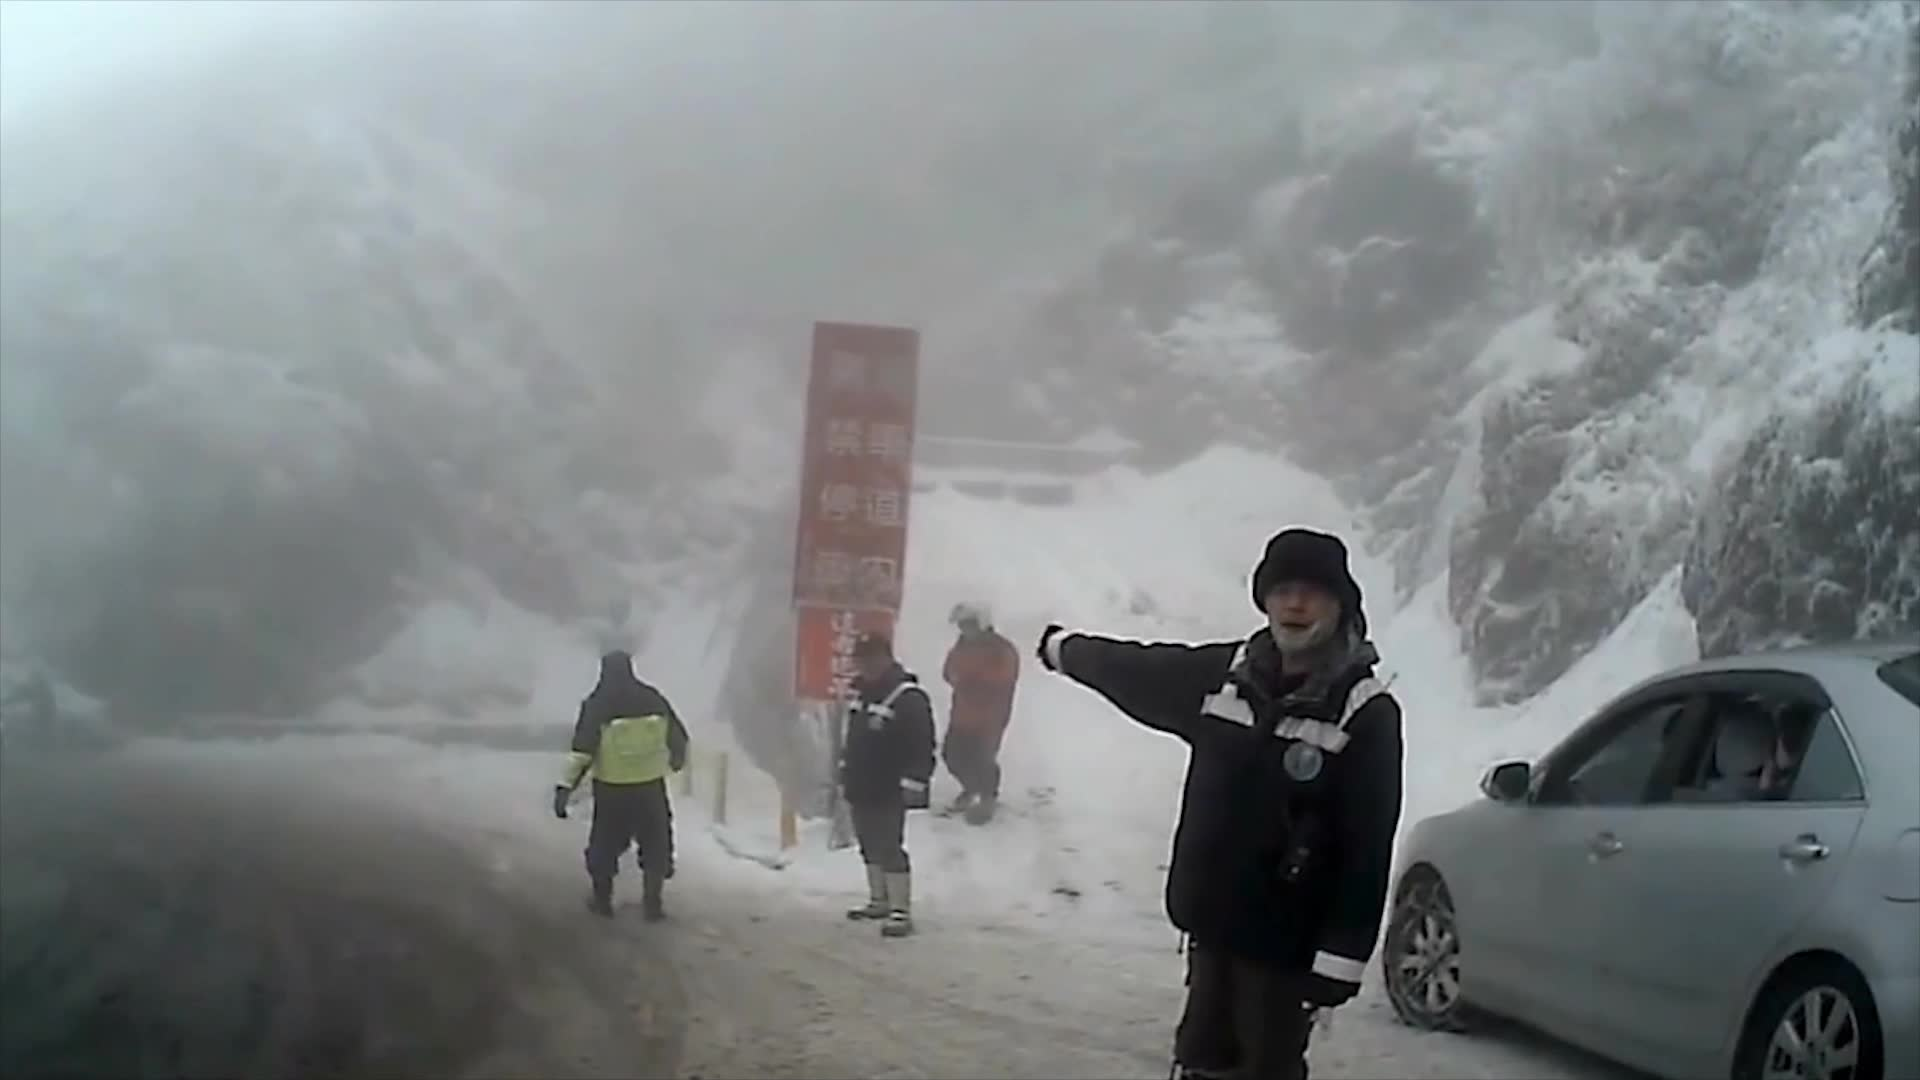pedestrian: (1036, 513, 1407, 1079), (556, 645, 701, 916), (834, 627, 939, 941), (940, 597, 1026, 821)
vehicle: (1377, 642, 1919, 1080)
